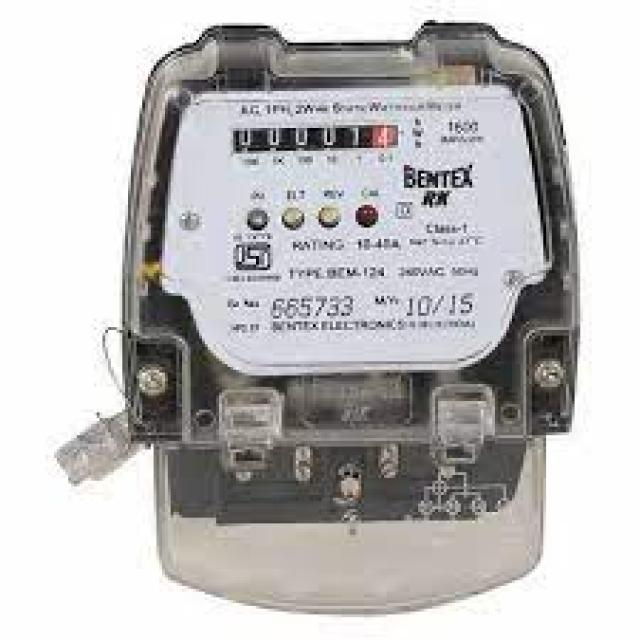0: (292, 127, 312, 148), (264, 127, 284, 147), (321, 126, 340, 147), (236, 128, 256, 147)
1: (345, 126, 366, 147)
analog meter: (230, 125, 401, 152)
